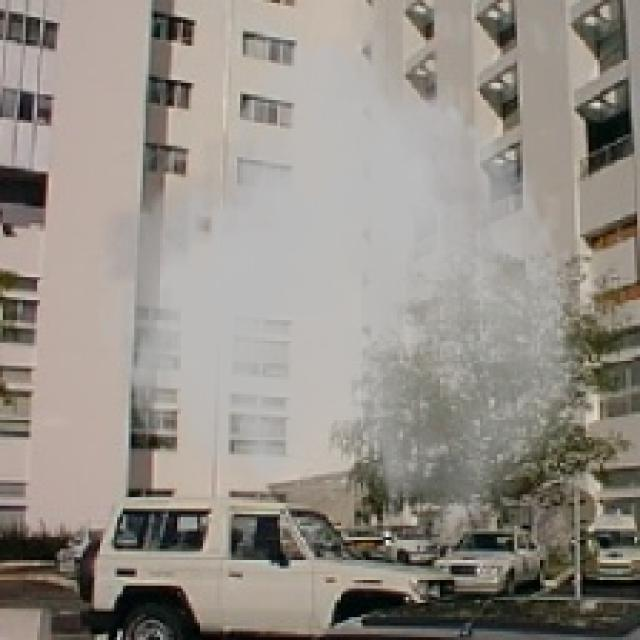Smoke: (92, 6, 618, 534)
